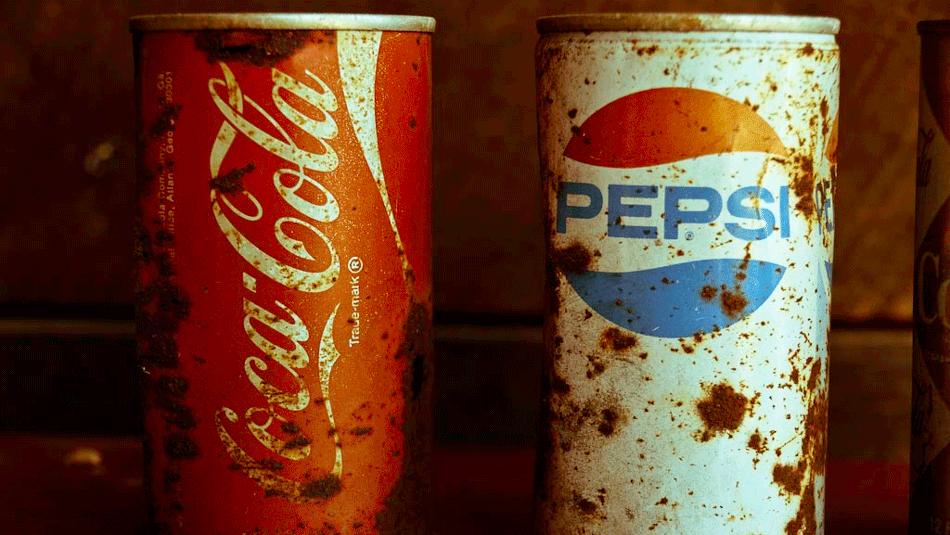pepsi: (543, 81, 795, 342), (543, 91, 795, 342)
